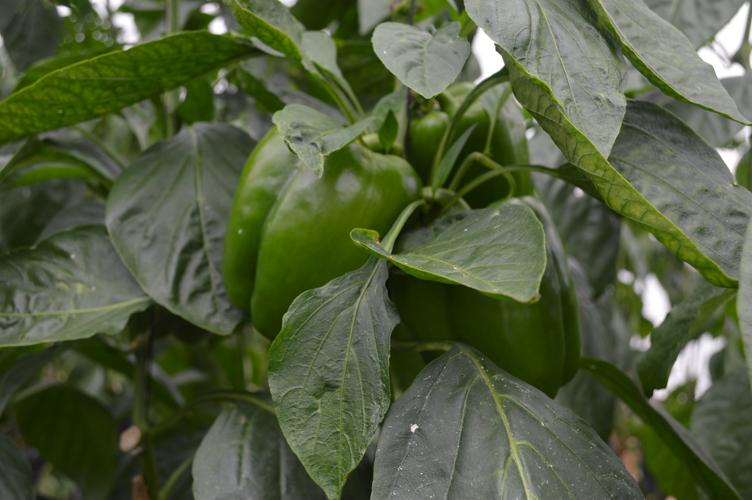BellPepper: (391, 201, 579, 394), (225, 128, 401, 332), (410, 101, 535, 209)
